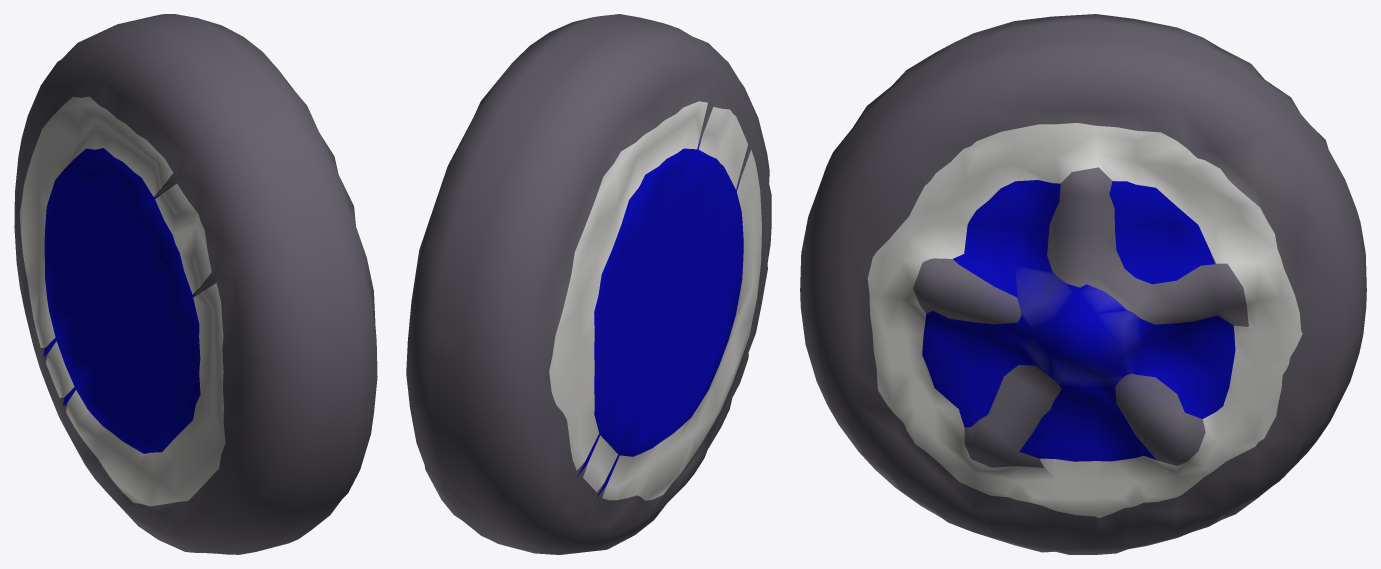
The model's file is wheel_royal.glb.
3 views of the same model, side by side, from view 1: azimuth 30°, elevation 25°; view 2: azimuth 150°, elevation 25°; view 3: azimuth 270°, elevation 25° (orthographic). The views are drawn at different scales.
Visible parts, largest first — view 1: wheel_royal; view 2: wheel_royal; view 3: wheel_royal.
Part boxes in pixels (left/top/right/bottom): wheel_royal: left=14, top=14, right=377, bottom=554; wheel_royal: left=406, top=14, right=771, bottom=554; wheel_royal: left=800, top=14, right=1366, bottom=554.
Size of the model in its own units: 6.24 by 14.39 by 14.39.
